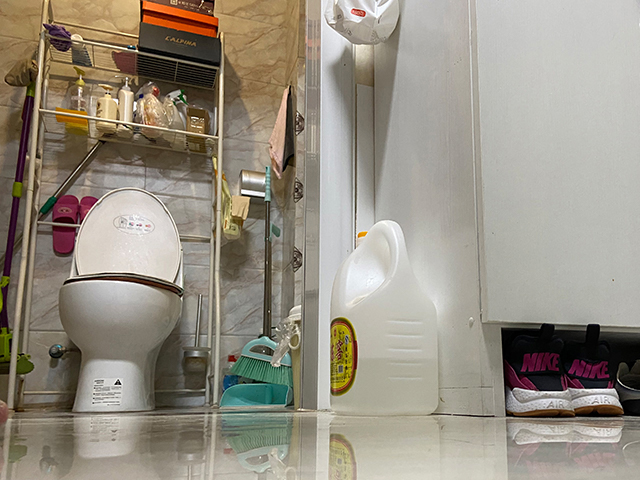closestool: (373, 1, 640, 419), (57, 184, 187, 416)
